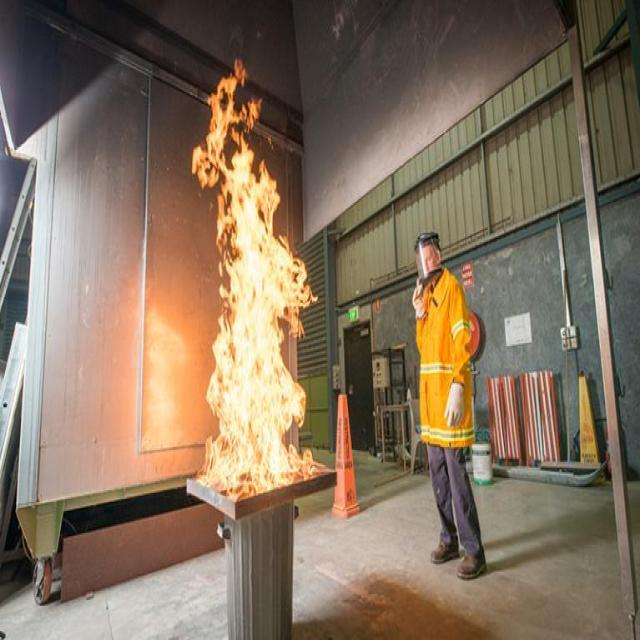Fire: (190, 56, 328, 518)
